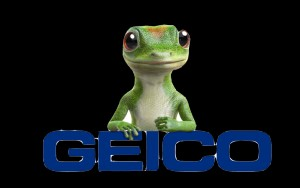Geico: (41, 127, 276, 173)
